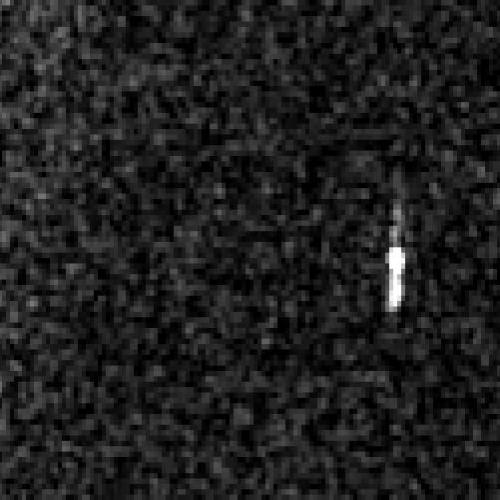ship: (386, 245, 407, 313)
